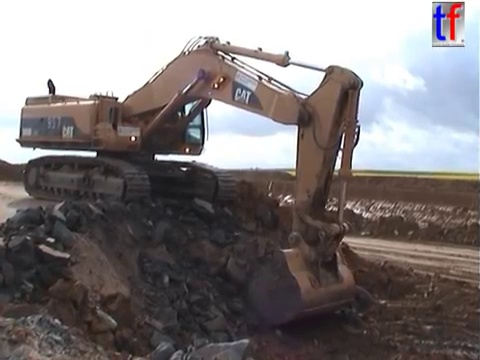excavator: (12, 32, 368, 329)
